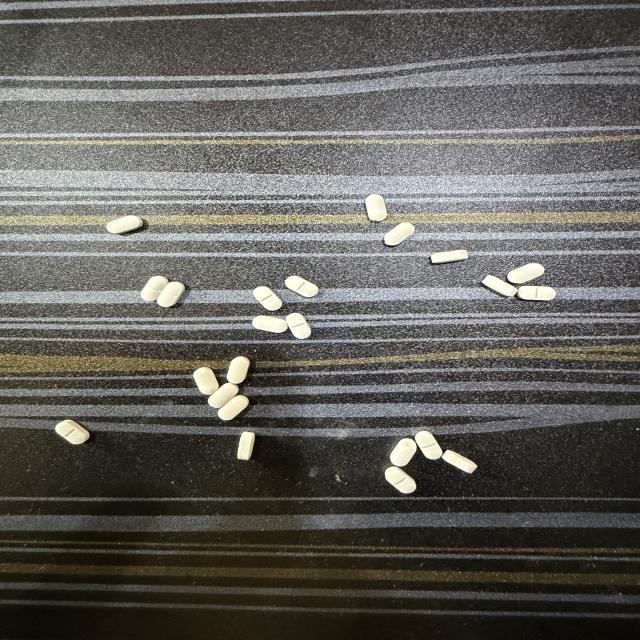pill: (55, 420, 89, 444), (385, 467, 416, 493), (442, 450, 477, 473), (218, 395, 249, 420), (415, 431, 442, 459), (208, 383, 238, 408), (507, 264, 544, 284), (482, 275, 517, 296), (106, 215, 143, 234), (390, 439, 416, 466), (285, 276, 318, 297), (384, 223, 415, 245), (157, 282, 184, 307), (141, 276, 168, 301), (253, 287, 282, 310), (286, 313, 311, 339), (194, 367, 218, 394), (227, 357, 250, 384), (252, 316, 287, 333), (365, 194, 387, 221), (518, 286, 556, 300), (431, 250, 468, 263), (238, 432, 254, 460)
